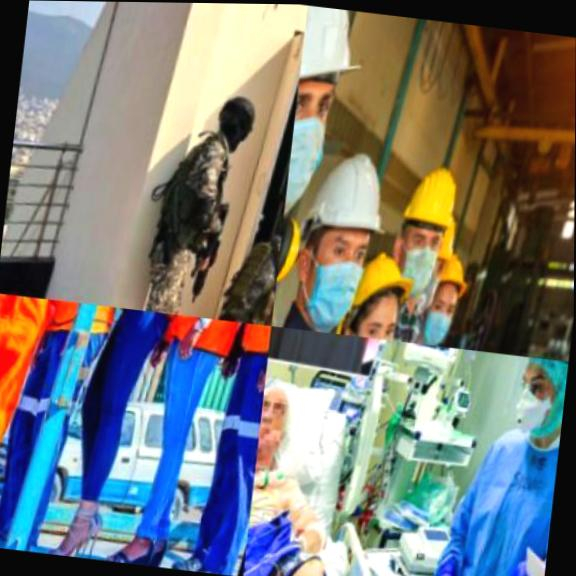safety_vest: (426, 425, 559, 576), (0, 292, 79, 511), (151, 140, 241, 260), (170, 315, 263, 378), (45, 299, 145, 356), (223, 228, 280, 325)
